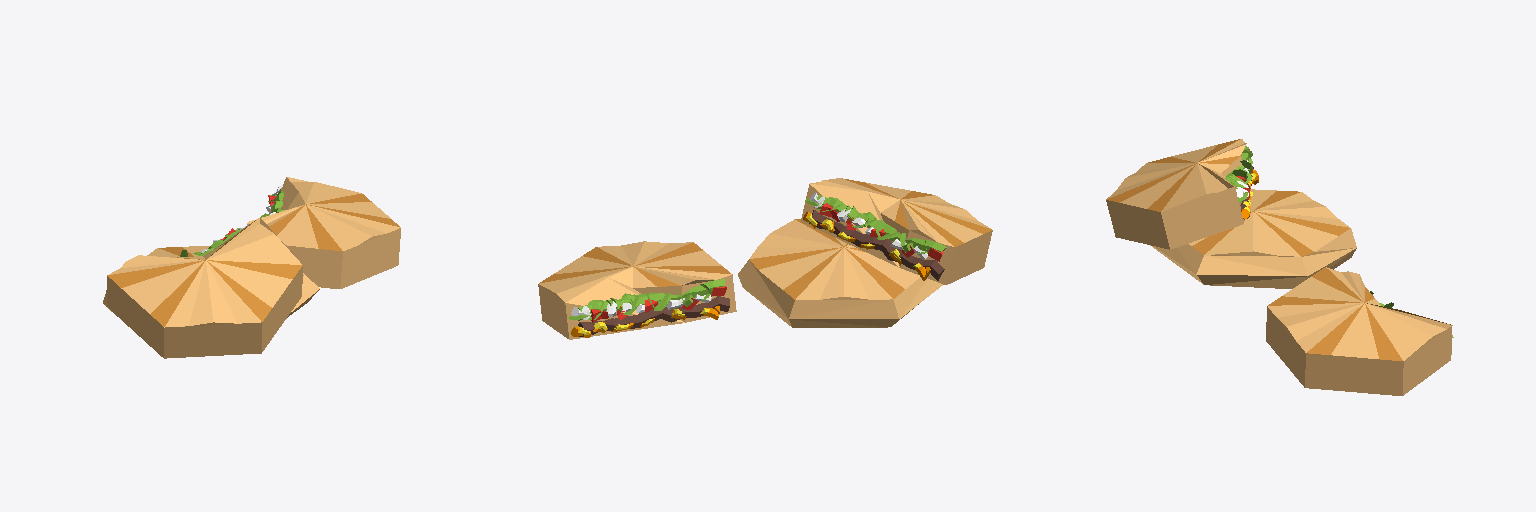
3 views of the same model, side by side, from view 1: azimuth 30°, elevation 25°; view 2: azimuth 150°, elevation 25°; view 3: azimuth 270°, elevation 25° (orthographic).
Parts seen in each view (by area): view 1: group[number redacted], group[number redacted], group[number redacted]; view 2: group[number redacted], group[number redacted], group[number redacted]; view 3: group[number redacted], group[number redacted], group[number redacted].
Boxes of the visible parts, x1,y1,x2,y2 form: group[number redacted]: [106, 217, 302, 358]; group[number redacted]: [247, 177, 400, 288]; group[number redacted]: [103, 246, 319, 317]; group[number redacted]: [538, 241, 736, 339]; group[number redacted]: [738, 219, 942, 327]; group[number redacted]: [801, 178, 992, 284]; group[number redacted]: [1266, 267, 1453, 395]; group[number redacted]: [1150, 189, 1356, 288]; group[number redacted]: [1106, 139, 1258, 249].
Size of the model in its own units: 0.5665 by 0.1938 by 0.5081.